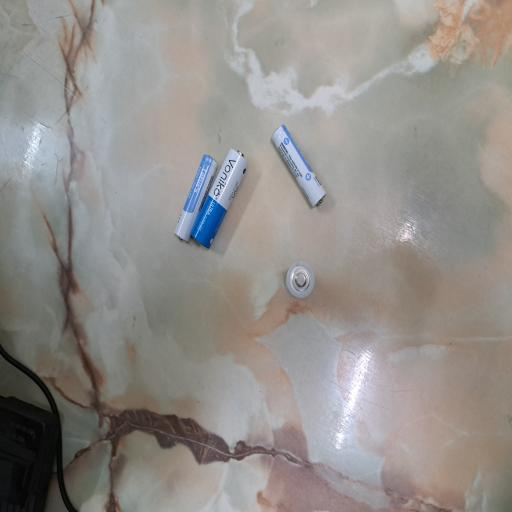battery: (189, 147, 249, 250), (271, 124, 327, 208), (176, 154, 218, 242), (284, 261, 316, 300)
